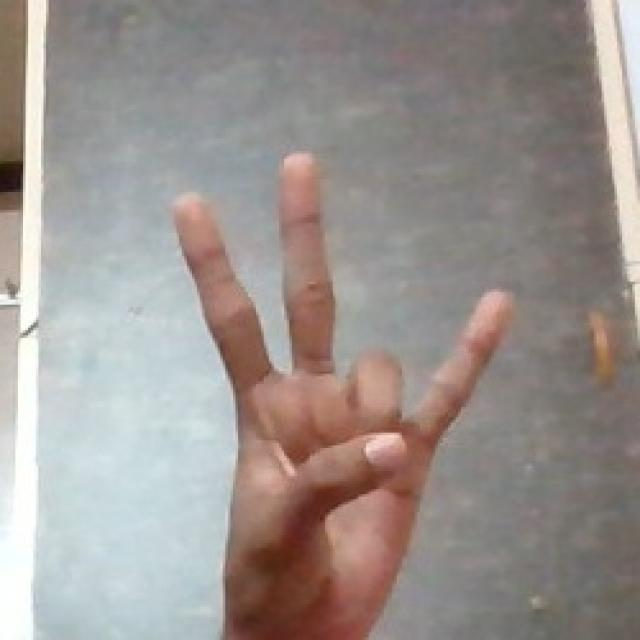Numeric-7: (166, 143, 520, 633)
